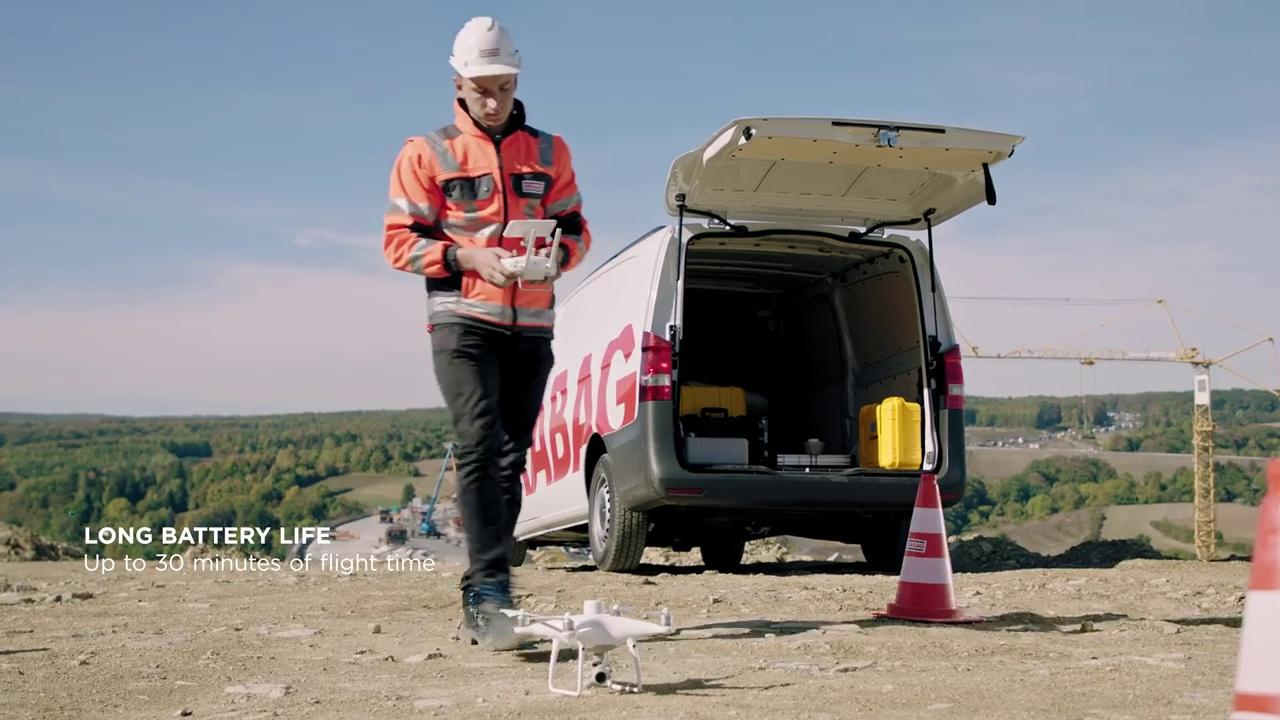drone: (500, 596, 683, 694)
